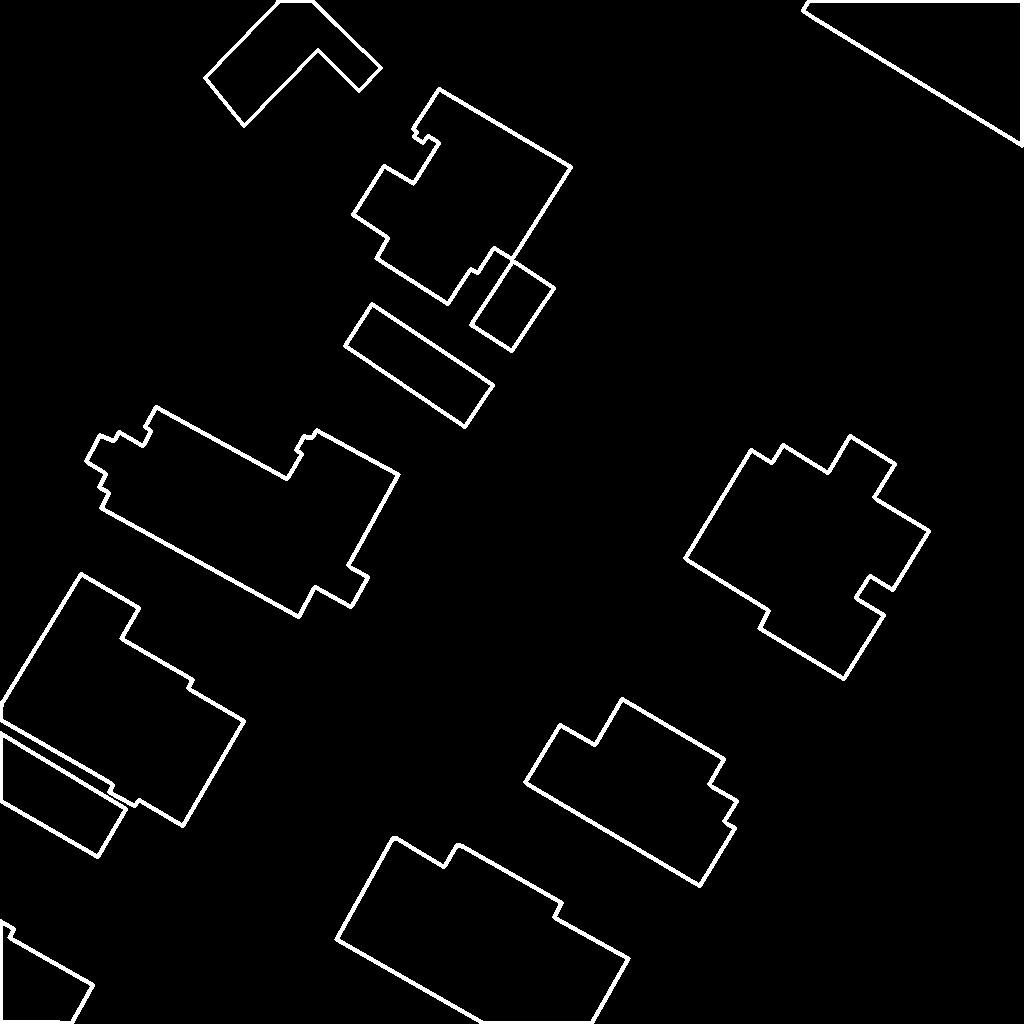building: (86, 407, 400, 618), (0, 574, 245, 827), (685, 436, 930, 680), (336, 837, 630, 1024), (353, 89, 572, 305), (525, 699, 738, 887), (803, 0, 1024, 147), (205, 0, 382, 127), (345, 304, 494, 428), (0, 733, 127, 858), (0, 921, 94, 1024), (471, 261, 555, 352)
